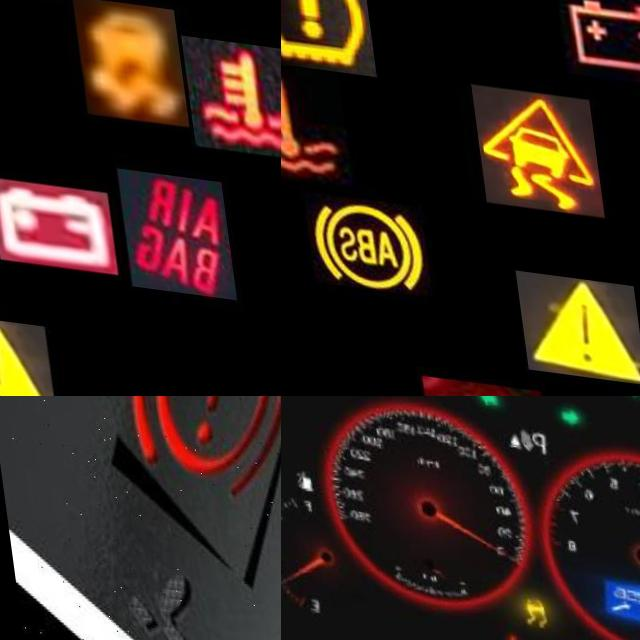Central Warning lamp: (507, 263, 635, 374), (0, 306, 41, 396)
Engine cooling system: (176, 21, 281, 145), (281, 56, 346, 184), (490, 626, 531, 640)
